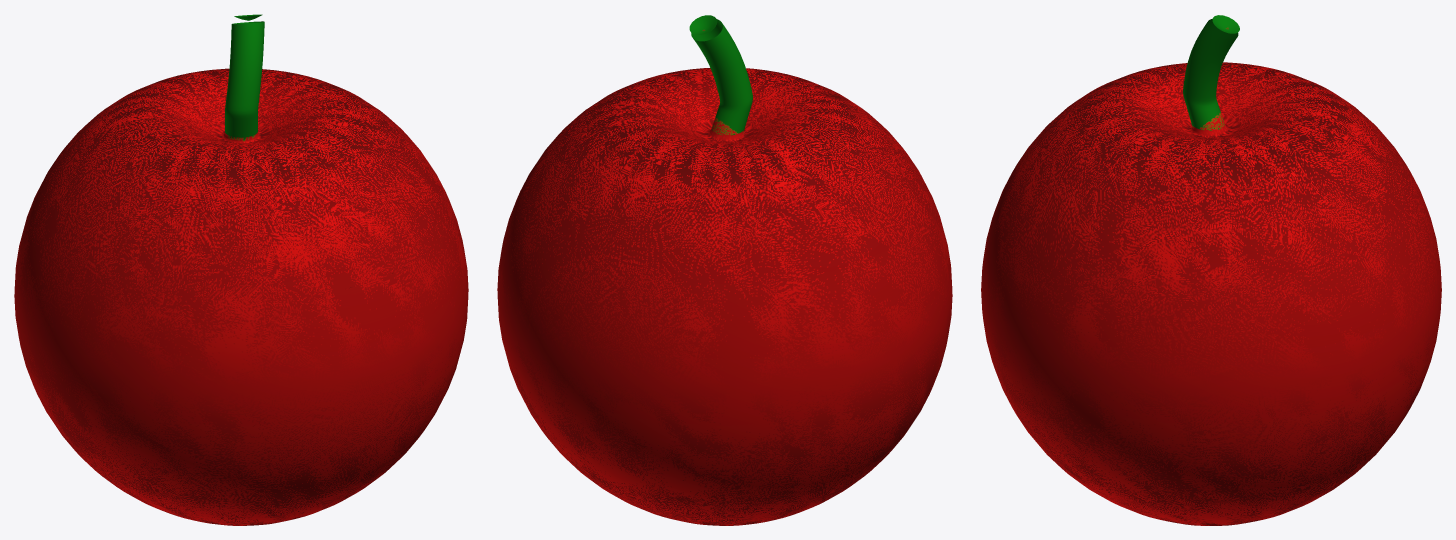
File: (ItsAuto2)PigPlusAppleColored.fbx
3 renders of one model, left to right at view 1: azimuth 30°, elevation 25°; view 2: azimuth 150°, elevation 25°; view 3: azimuth 270°, elevation 25°, orthographic.
Parts seen in each view (by area): view 1: Apple_Baked; view 2: Apple_Baked; view 3: Apple_Baked.
Boxes of the visible parts, x1,y1,x2,y2 form: Apple_Baked: [14, 14, 468, 525]; Apple_Baked: [497, 15, 952, 525]; Apple_Baked: [981, 15, 1441, 525].
Bounding box in the file's own units: 58.46 × 69.25 × 58.46.
